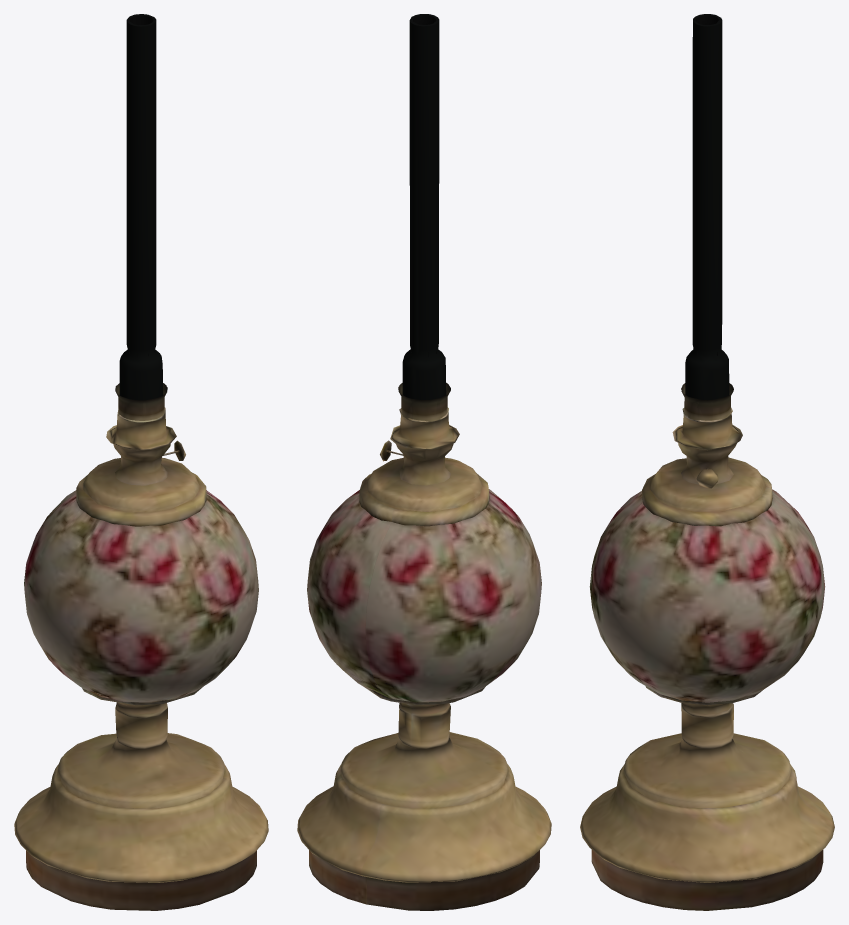
The model's file is th_oellampe.glb.
3 renders of one model, left to right at view 1: azimuth 30°, elevation 25°; view 2: azimuth 150°, elevation 25°; view 3: azimuth 270°, elevation 25°, orthographic.
Parts seen in each view (by area): view 1: vintage_oil_lamp, vintage_oil_lamp_glass; view 2: vintage_oil_lamp, vintage_oil_lamp_glass; view 3: vintage_oil_lamp, vintage_oil_lamp_glass.
Boxes of the visible parts, left/top/right/bottom form: vintage_oil_lamp: left=14, top=407, right=268, bottom=910; vintage_oil_lamp_glass: left=115, top=14, right=167, bottom=420; vintage_oil_lamp: left=297, top=407, right=551, bottom=910; vintage_oil_lamp_glass: left=398, top=14, right=450, bottom=421; vintage_oil_lamp: left=580, top=407, right=834, bottom=910; vintage_oil_lamp_glass: left=681, top=14, right=733, bottom=420.
Size of the model in its own units: 0.22 by 0.8016 by 0.22.
Materials: 3 (3 with a texture image).
